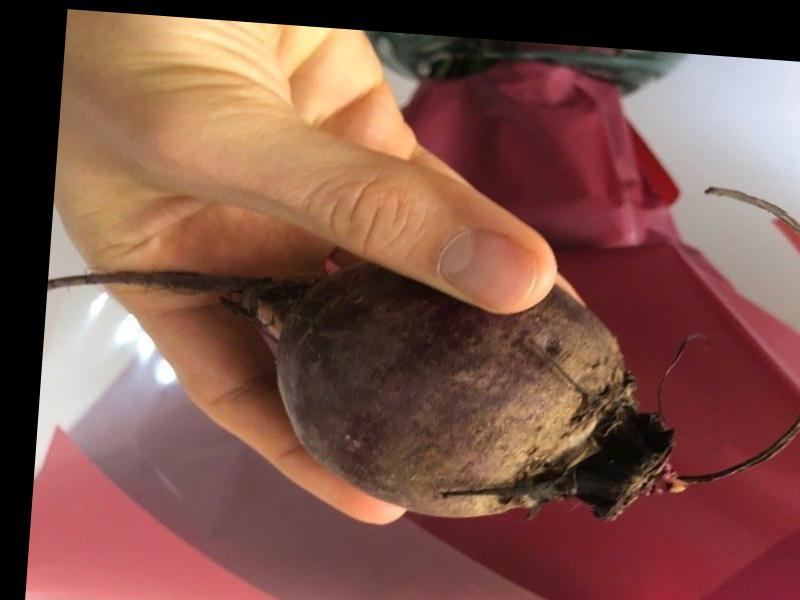Beet: (36, 140, 800, 543)
